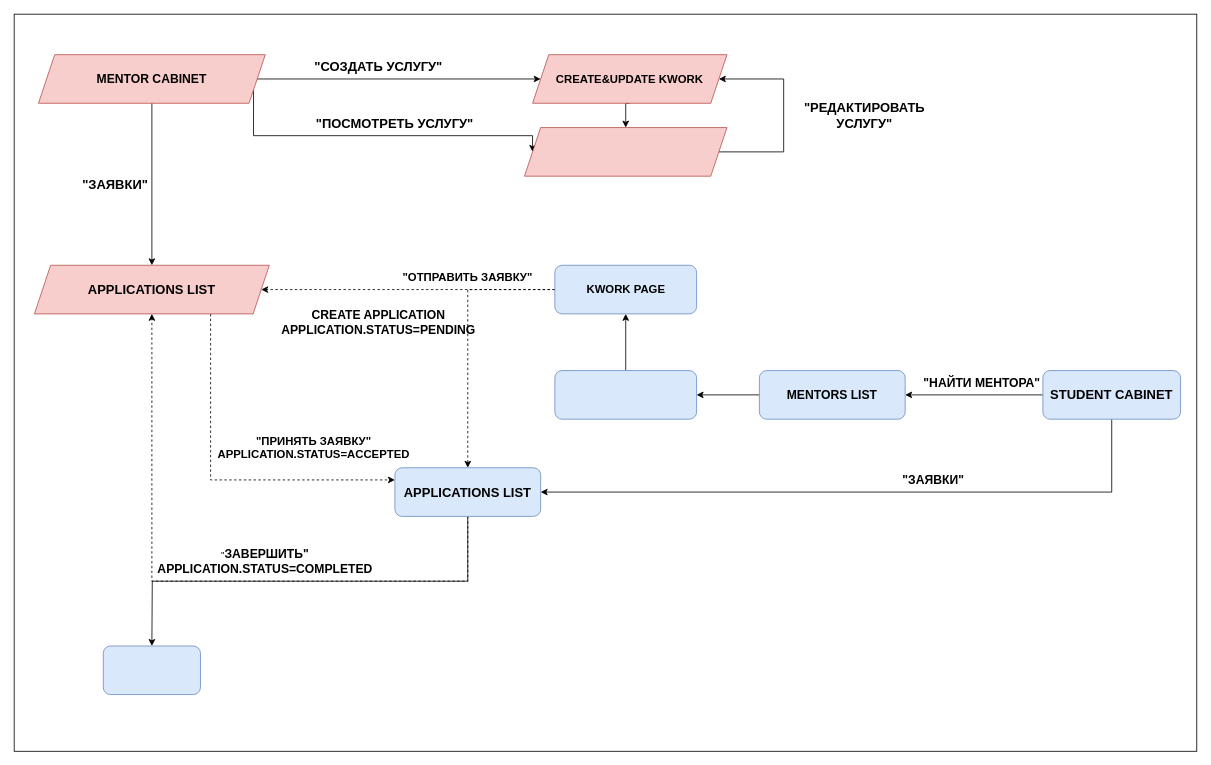
Image size: 1211x765. Some labels were removed from this diagram. The shapes that lost their labels are listed below. From the top down, each one's centre as x and y in pixels, then its label:
(x=625, y=151): KWORK
(x=625, y=394): MENTOR PROFILE
(x=151, y=670): FEEDBACK
